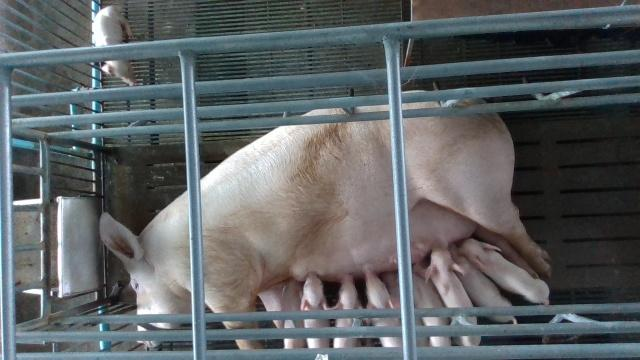piglet: (459, 237, 550, 305), (450, 243, 517, 325), (425, 248, 481, 346), (388, 271, 453, 346), (92, 4, 138, 87), (364, 271, 404, 347), (301, 272, 333, 349), (332, 275, 362, 347)
sow-sleep-lactate: (102, 89, 553, 350)
